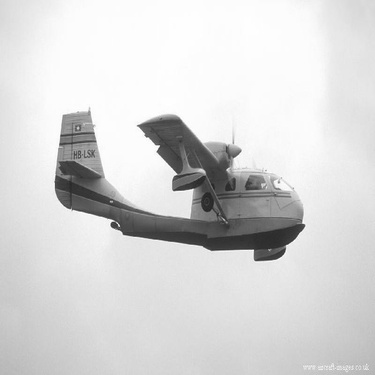airplane: (52, 105, 309, 264)
